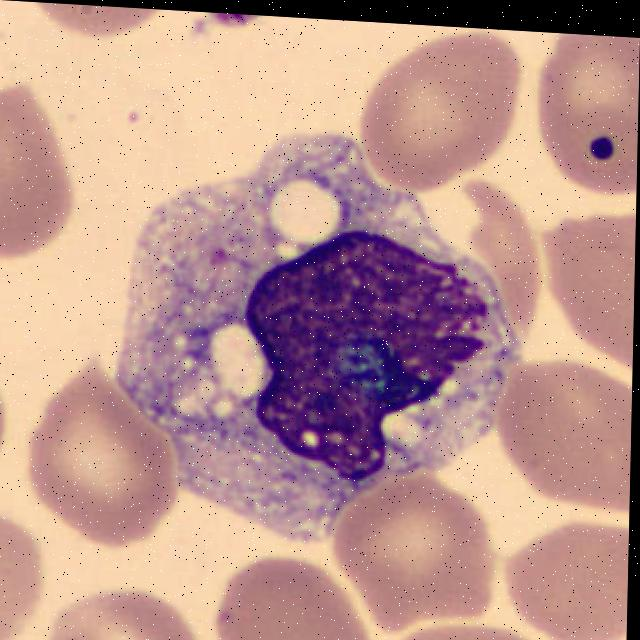monocyte: (119, 140, 532, 554)
rbc: (26, 362, 178, 558), (329, 473, 507, 635), (359, 47, 530, 189), (491, 351, 633, 515), (530, 198, 636, 374), (531, 32, 640, 196), (0, 86, 98, 259), (202, 551, 384, 640), (501, 519, 629, 640), (38, 574, 208, 640), (30, 2, 189, 68), (0, 499, 46, 640), (374, 619, 561, 640)
